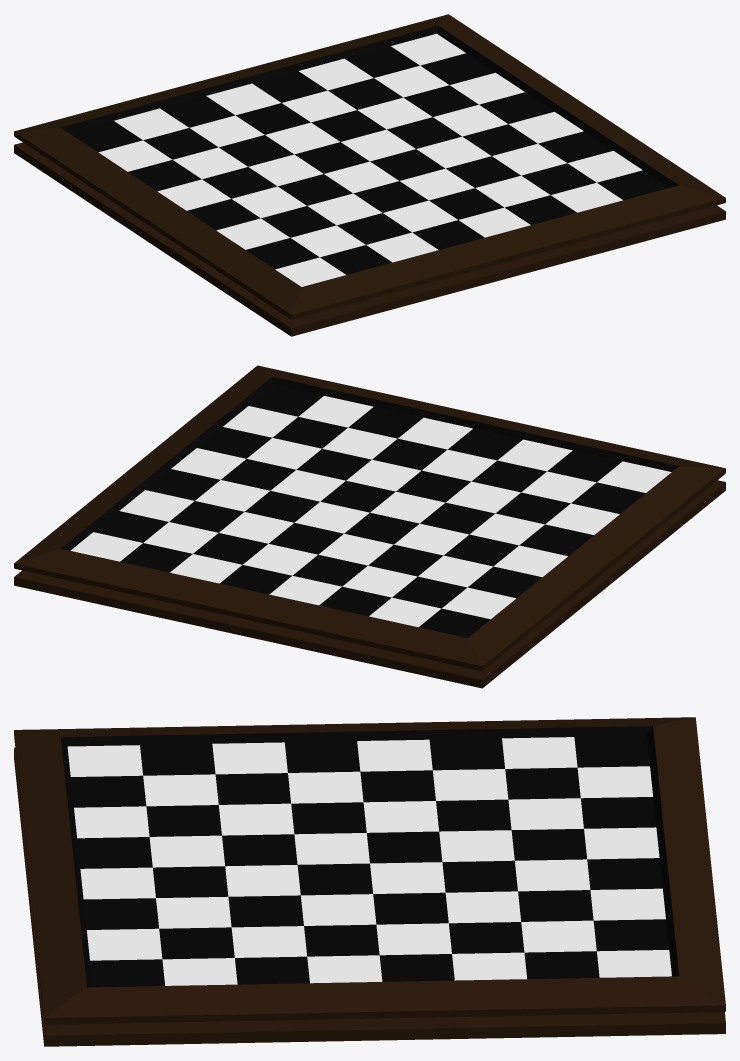
The model's file is schaakbord.fbx.
The picture shows the model from 3 angles, top to bottom: view 1: azimuth 30°, elevation 25°; view 2: azimuth 150°, elevation 25°; view 3: azimuth 270°, elevation 25°; orthographic projection. The views are drawn at different scales.
Parts seen in each view (by area): view 1: Chess Board.001; view 2: Chess Board.001; view 3: Chess Board.001.
Part boxes in pixels (x1,y1,x2,y2): Chess Board.001: (14, 14, 725, 336); Chess Board.001: (14, 365, 725, 688); Chess Board.001: (14, 717, 725, 1046).
Size of the model in its own units: 58.94 by 3.62 by 58.94.
